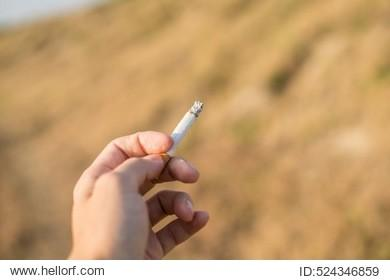Cigarette: (154, 100, 203, 180)
